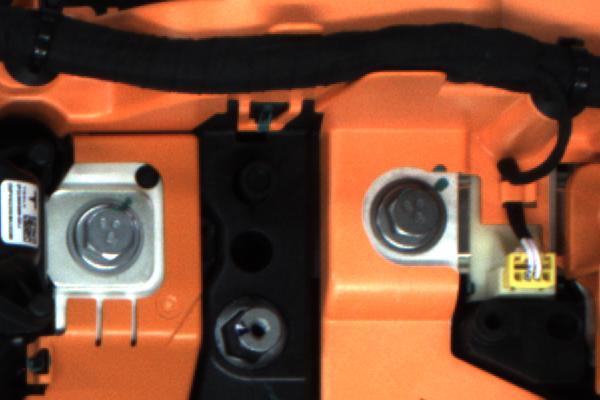nut_b: (360, 173, 455, 263), (59, 191, 149, 282)
